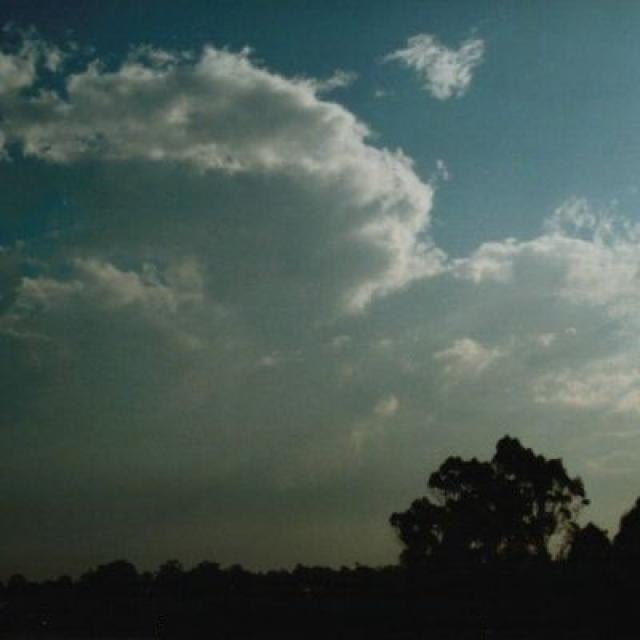Sc: (1, 19, 640, 410)
